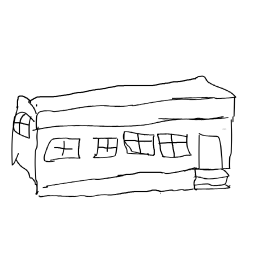closed_window: (42, 136, 83, 166), (156, 131, 193, 160), (121, 129, 156, 157), (86, 135, 122, 162), (10, 111, 34, 140)
door: (193, 126, 226, 173)
roof: (14, 73, 242, 130)
wall: (33, 115, 235, 195)
